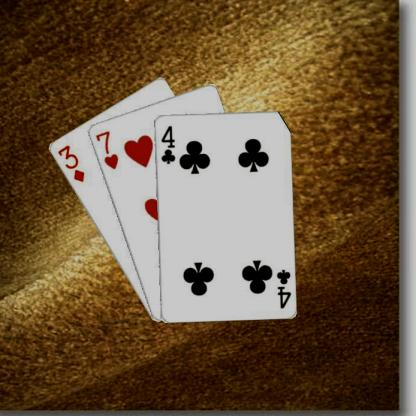3D: (54, 142, 86, 183)
4C: (273, 266, 292, 309), (158, 122, 176, 165)
7H: (92, 128, 119, 171)
